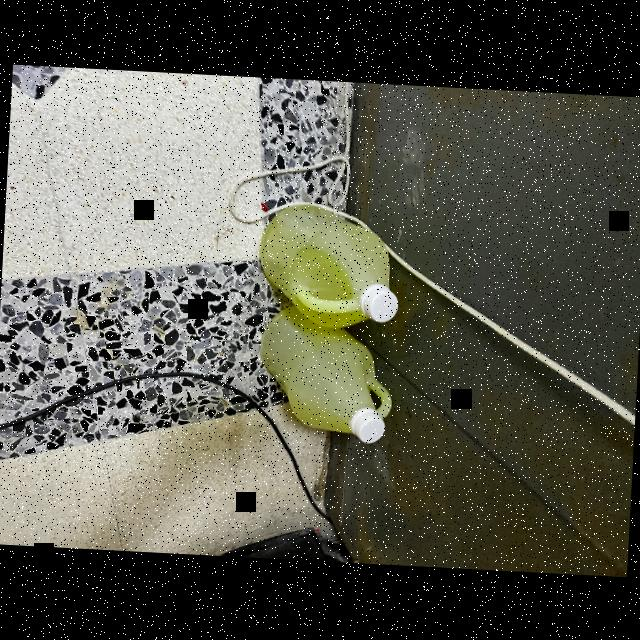chemical_plastic_gallon: (250, 194, 432, 330), (250, 302, 392, 466)
